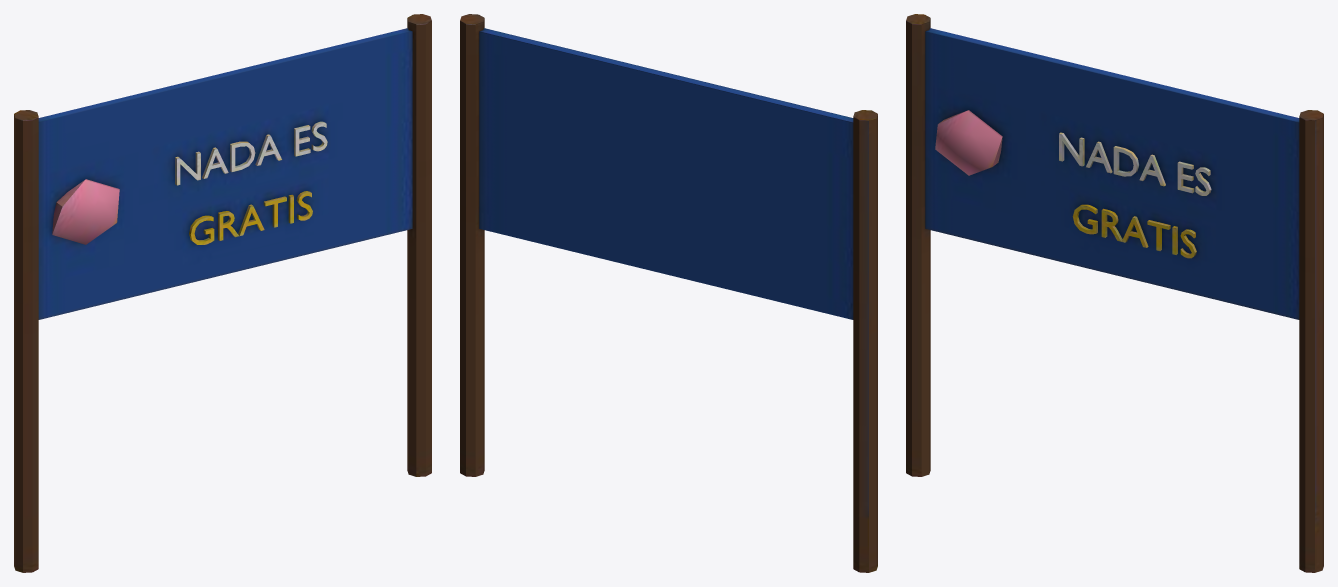
Rendered from cartel_vt.glb.
3 renders of one model, left to right at view 1: azimuth 30°, elevation 25°; view 2: azimuth 150°, elevation 25°; view 3: azimuth 330°, elevation 25°, orthographic.
Visible parts, largest first — view 1: cartel_vt; view 2: cartel_vt; view 3: cartel_vt.
Part boxes in pixels (box(x1,y1,x2,y2)): cartel_vt: box(14, 14, 431, 572); cartel_vt: box(460, 14, 877, 572); cartel_vt: box(906, 14, 1323, 572).
Bounding box in the file's own units: 2.64 × 2.75 × 0.1881.
1 material, 1 textured.
